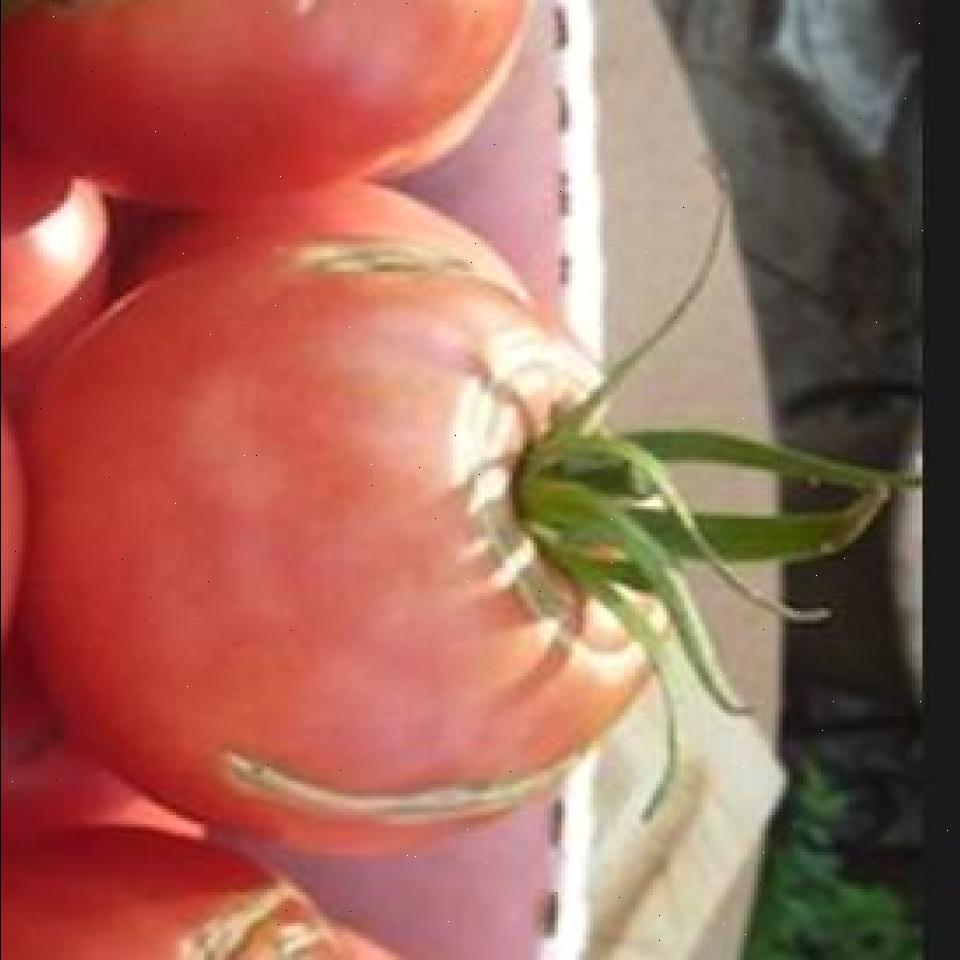Cracking: (461, 343, 665, 705), (202, 702, 636, 844), (257, 230, 550, 344), (151, 862, 339, 956)
